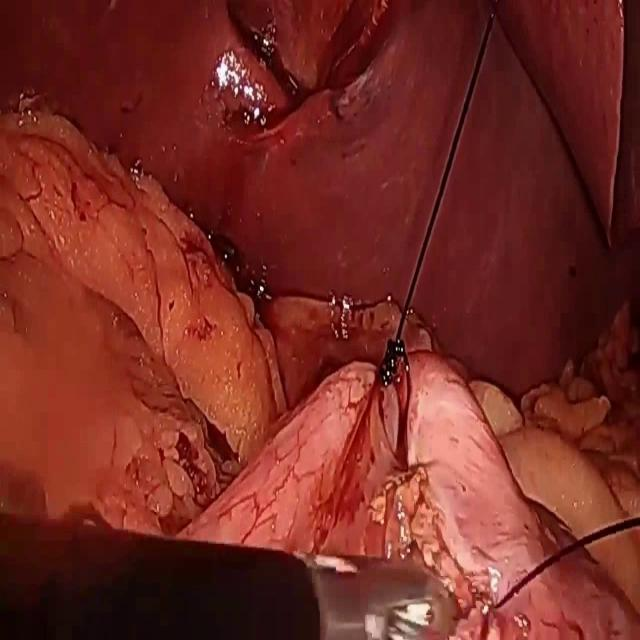surgical-tool: (0, 517, 468, 639)
